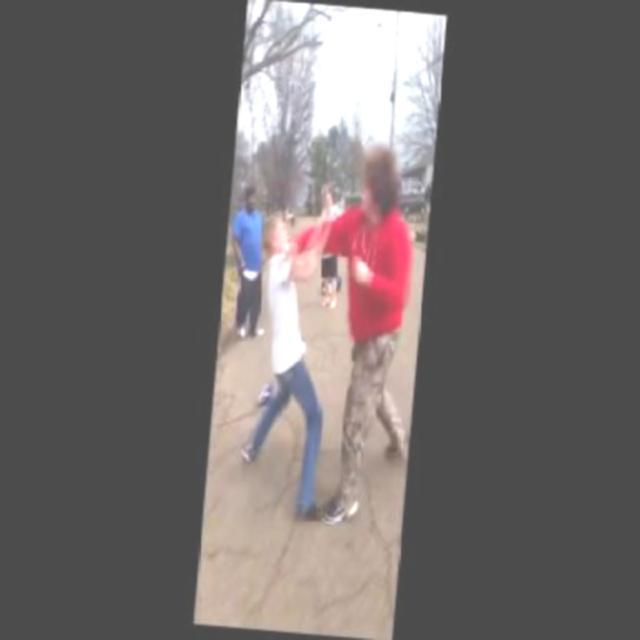fight: (252, 138, 418, 390)
non-fight: (222, 185, 268, 338)
